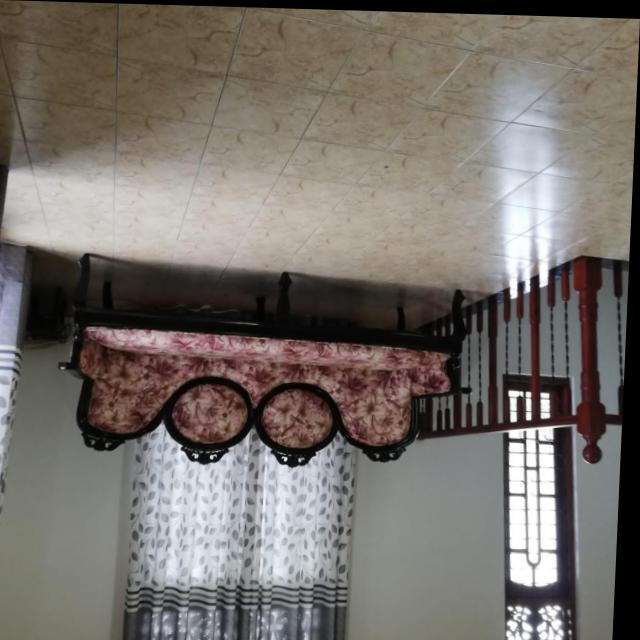Sofa: (55, 251, 481, 471)
